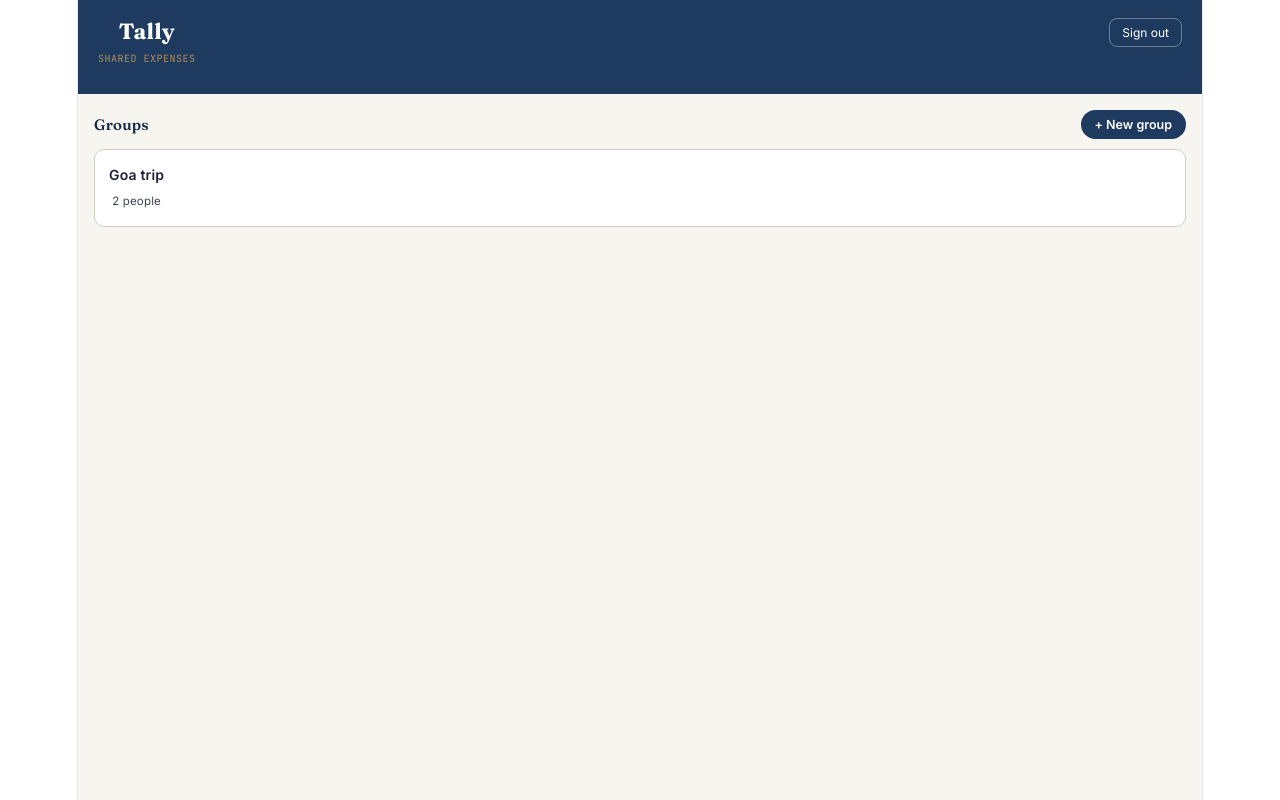
Test: Balances query failure - fail closed, not open › keeps Remove disabled when the balance can't be verified at all
Click the text "Goa trip" at {"x": 137, "y": 175}, box [109,162,164,188]
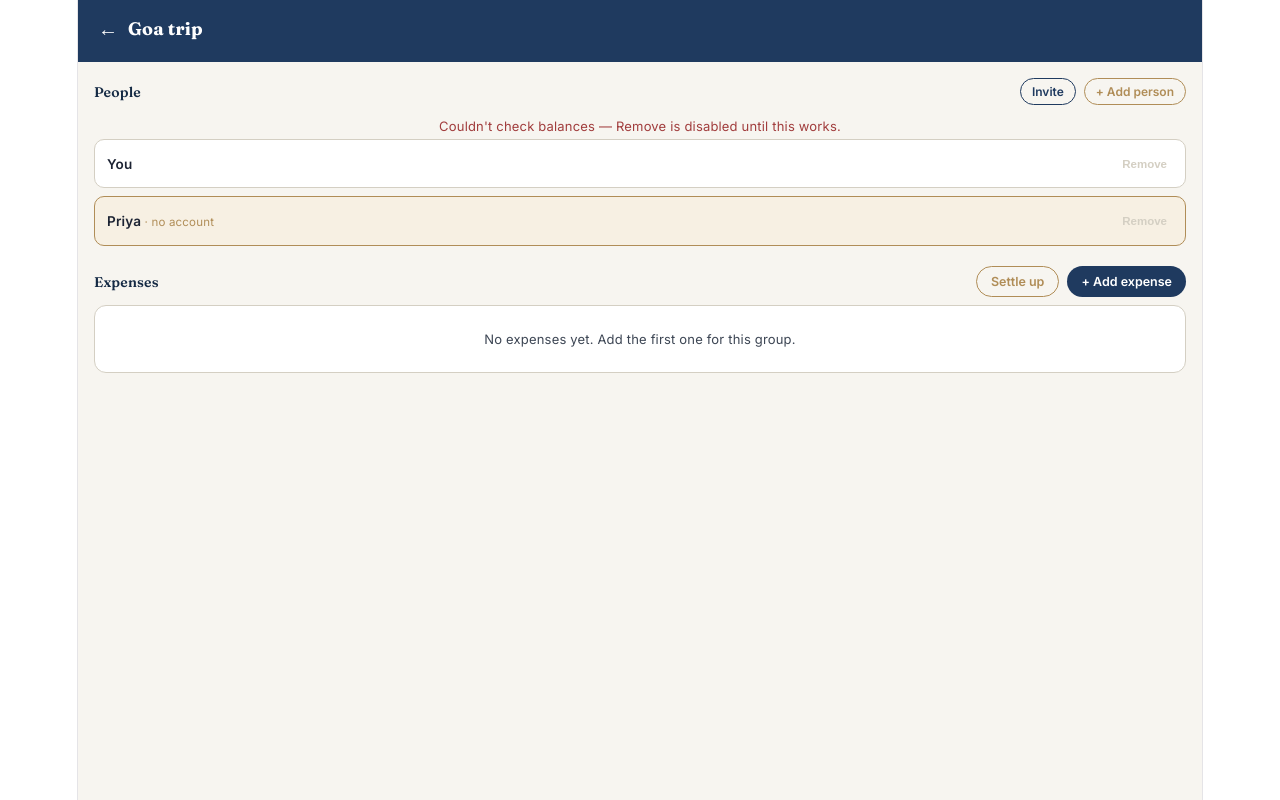
Expected: the text "Couldn't check balances" is shown, [439,118,841,134]
Expected: the button "Remove" in the row of "You" is disabled, [1116,157,1173,171]
Expected: the button "Remove" in the row of "· no account" is disabled, [1116,214,1173,228]
